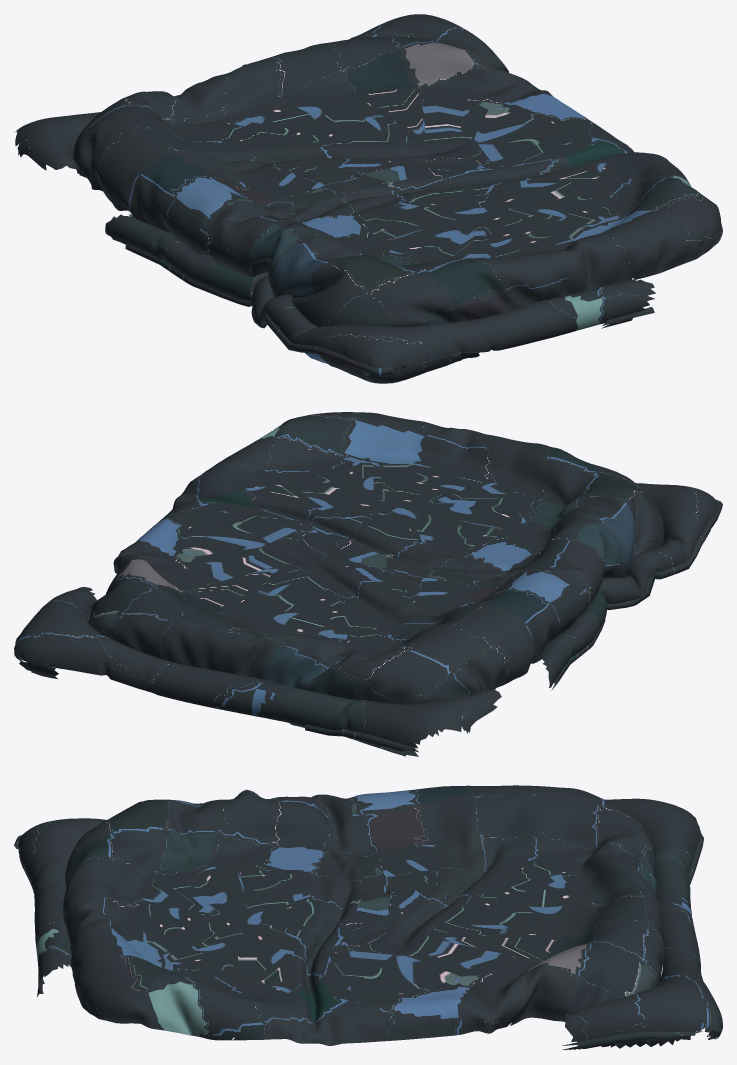
File: CAMITA2.glb
3 renders of one model, top to bottom at view 1: azimuth 30°, elevation 25°; view 2: azimuth 150°, elevation 25°; view 3: azimuth 270°, elevation 25°, orthographic. The views are drawn at different scales.
Parts seen in each view (by area): view 1: SketchUp; view 2: SketchUp; view 3: SketchUp.
Boxes of the visible parts, x1,y1,x2,y2 form: SketchUp: (14, 14, 722, 383); SketchUp: (14, 412, 722, 756); SketchUp: (14, 785, 722, 1050).
Bounding box in the file's own units: 0.5107 × 0.0859 × 0.6492.
1 material, 1 textured.
